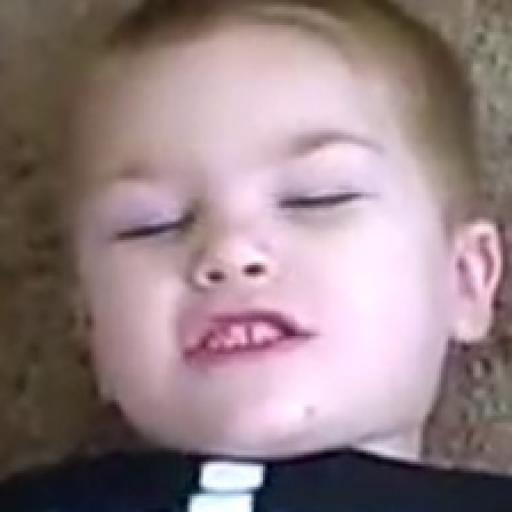Autism: (16, 14, 490, 445)
